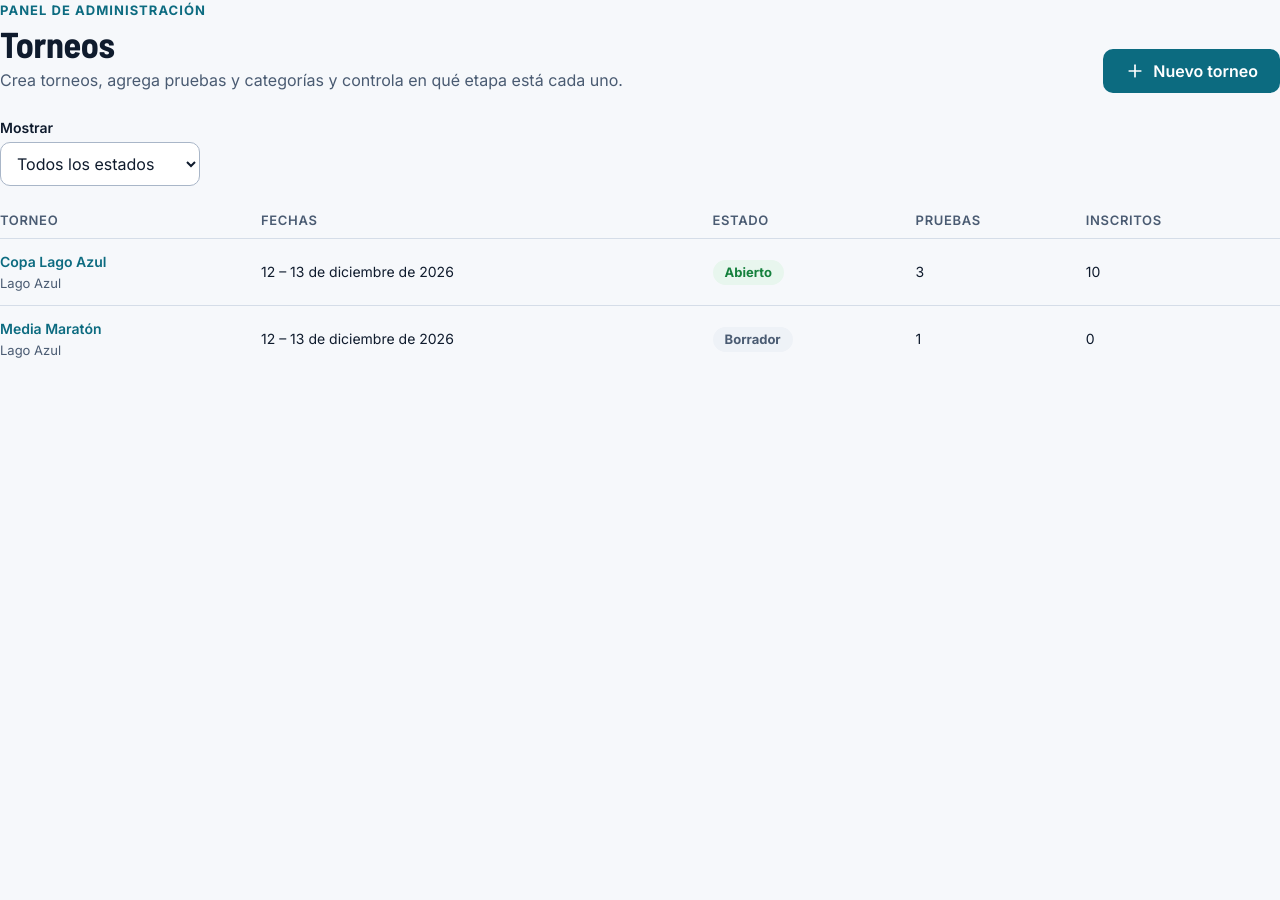
Test: TorneosPage › valida en el formulario que la fecha de fin no sea anterior
Expected: the table named "Torneos" is shown, [0,210,1279,372]
Click the button "Nuevo torneo" at (1192, 70), box [1103,48,1279,92]
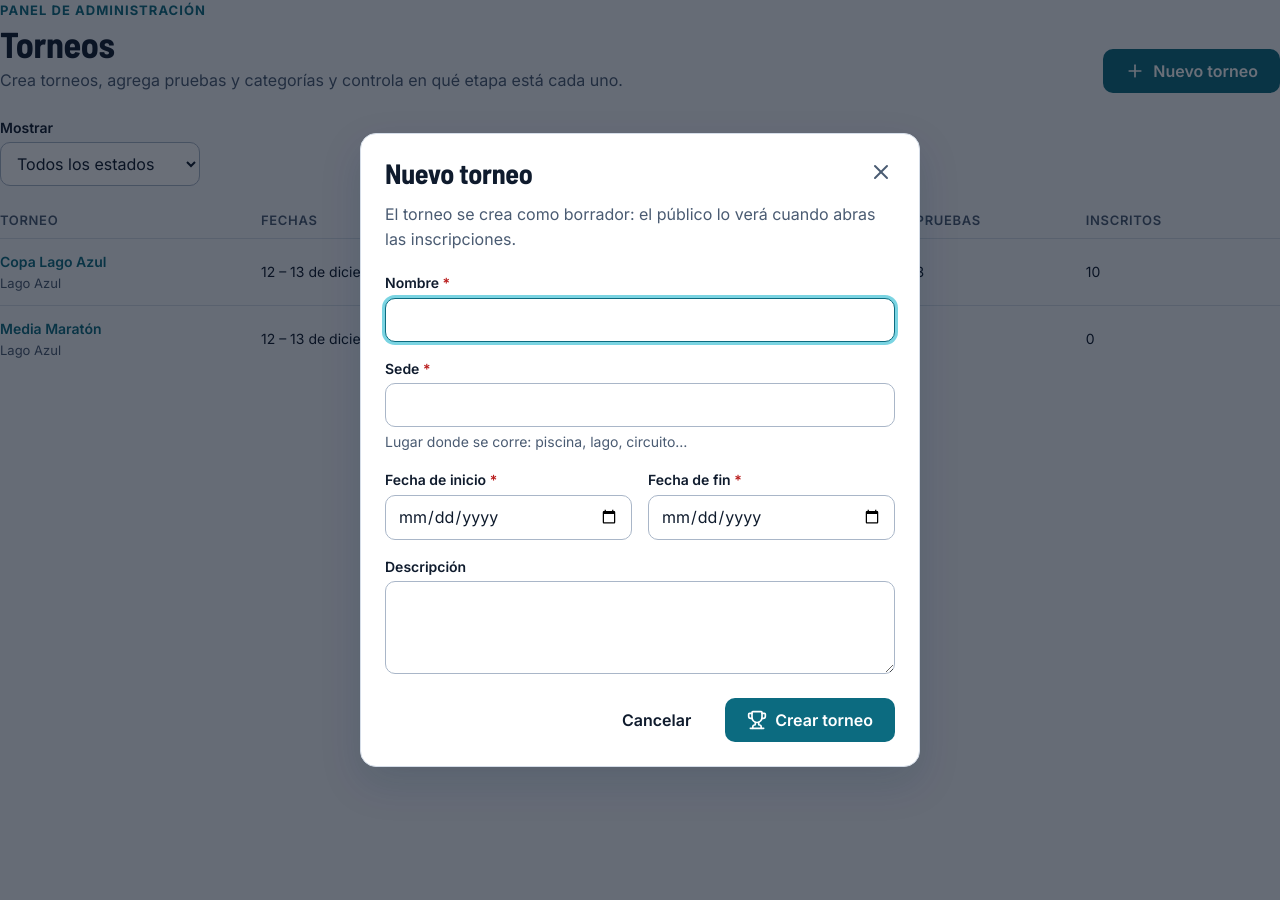
Type "Copa" into the field labelled "Nombre *" at (640, 320), box [385,298,895,342]
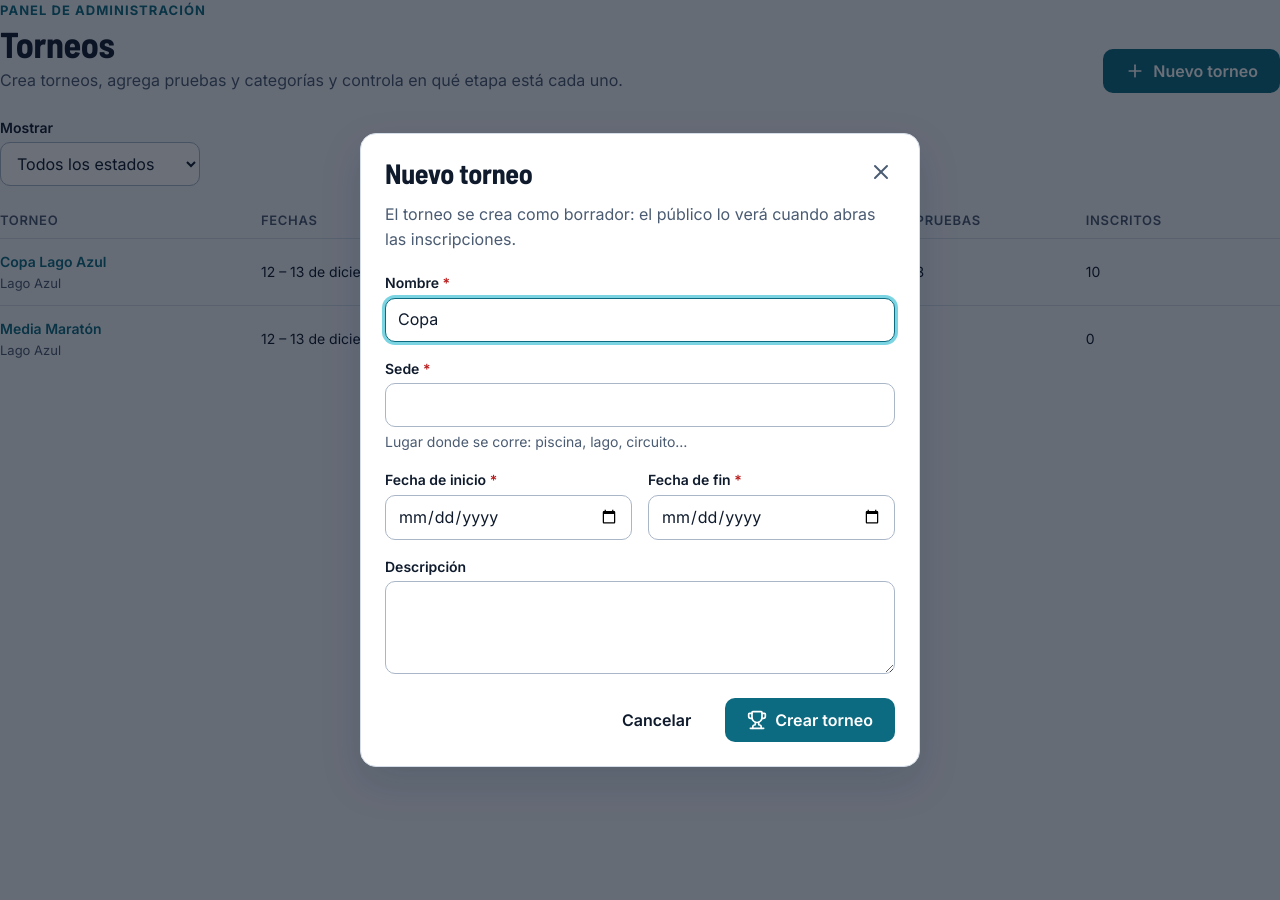
Type "Club" into the field labelled "Sede *" at (640, 405), box [385,383,895,427]
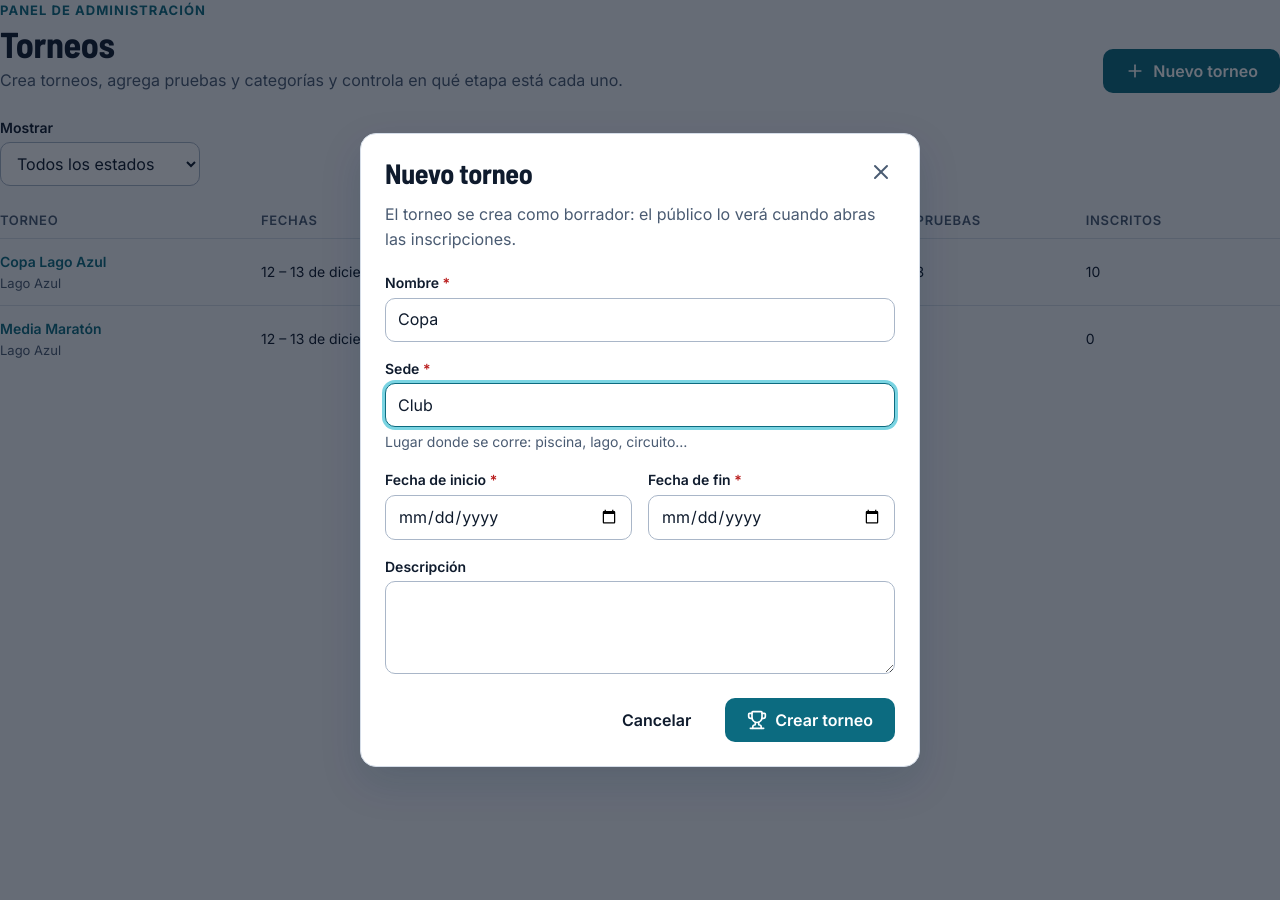
Type "2027-01-15" into the date field labelled "Fecha de inicio *" at (508, 517), box [385,495,632,540]
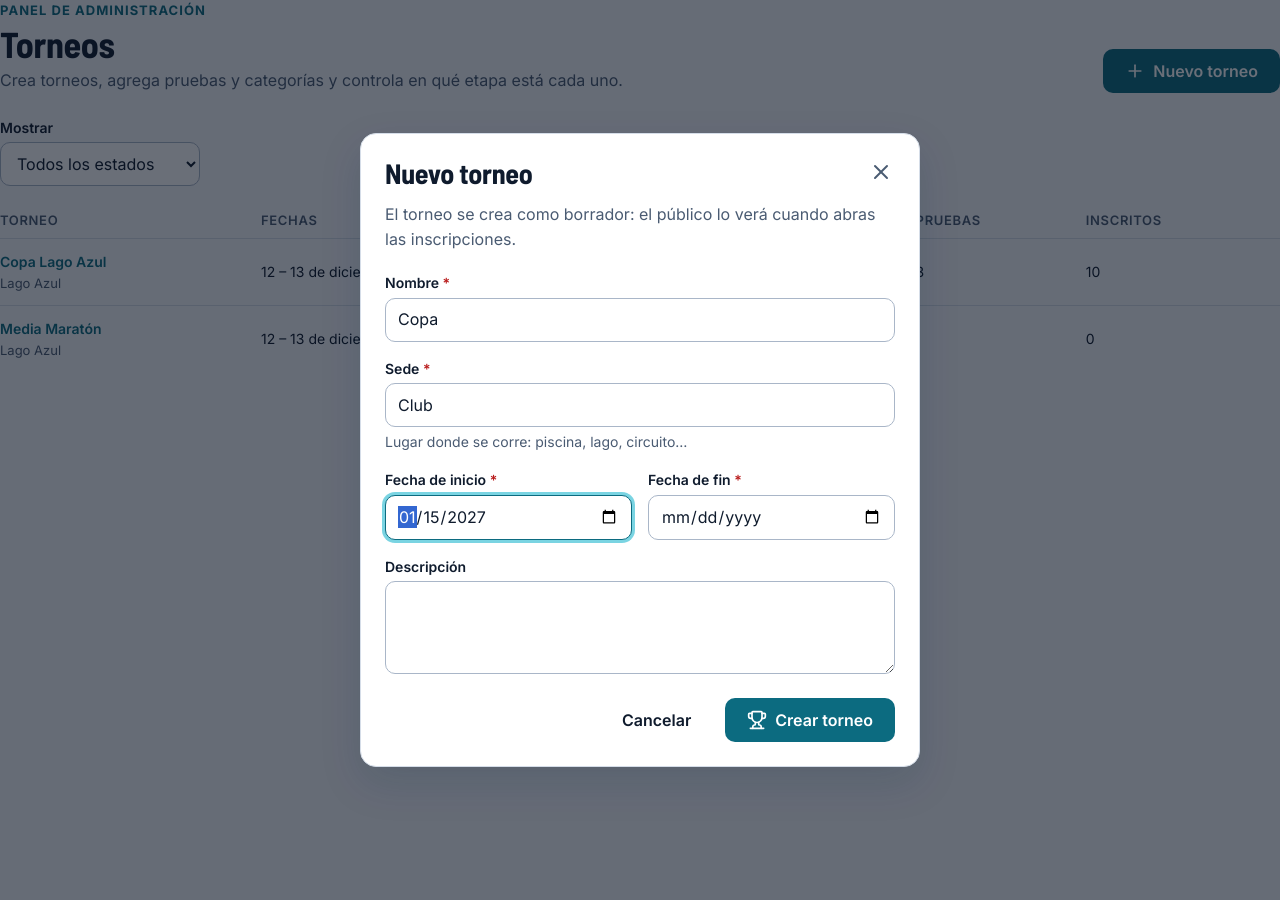
Type "2027-01-10" into the date field labelled "Fecha de fin *" at (772, 517), box [648,495,895,540]
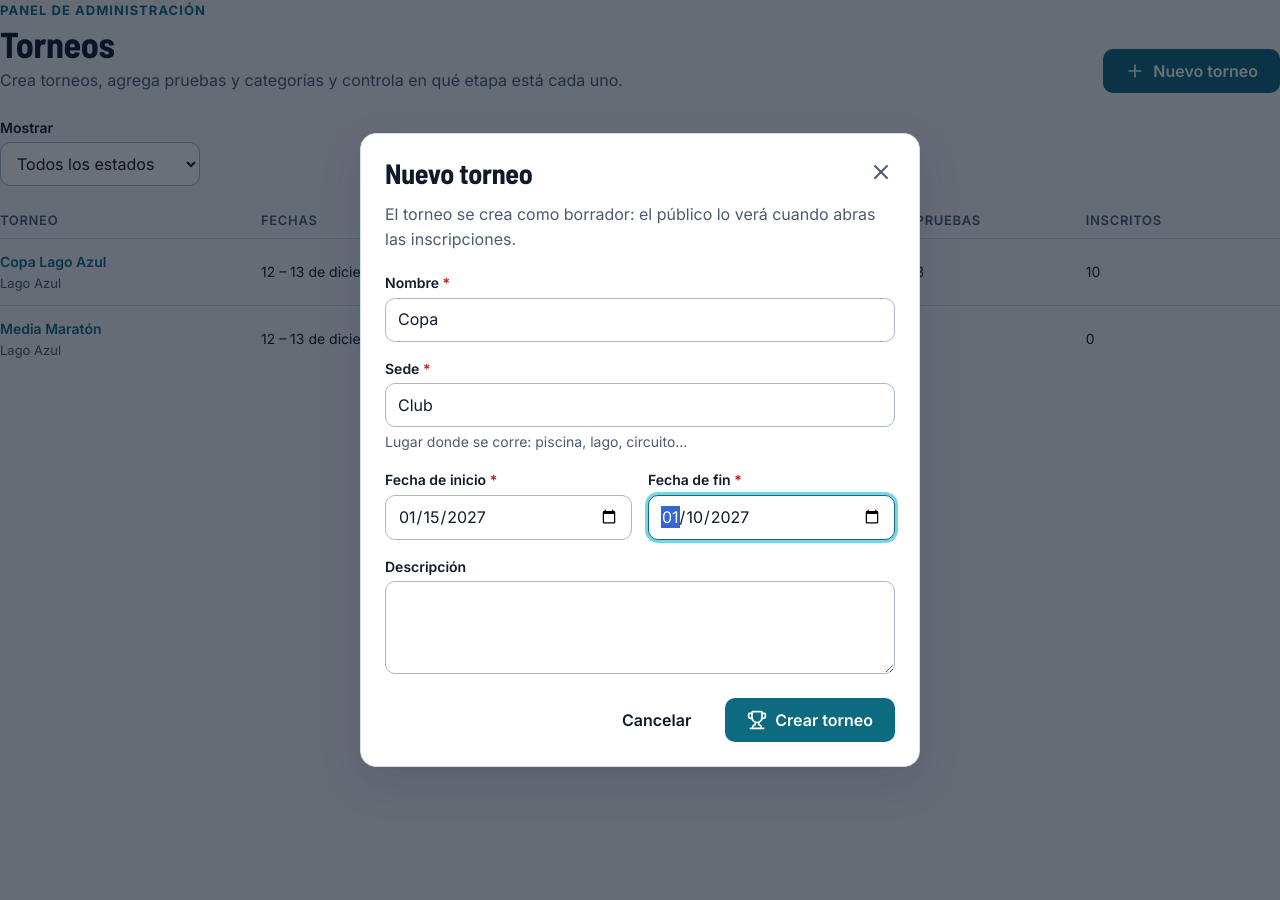
Click the button "Crear torneo" at (810, 720), box [725,698,895,742]
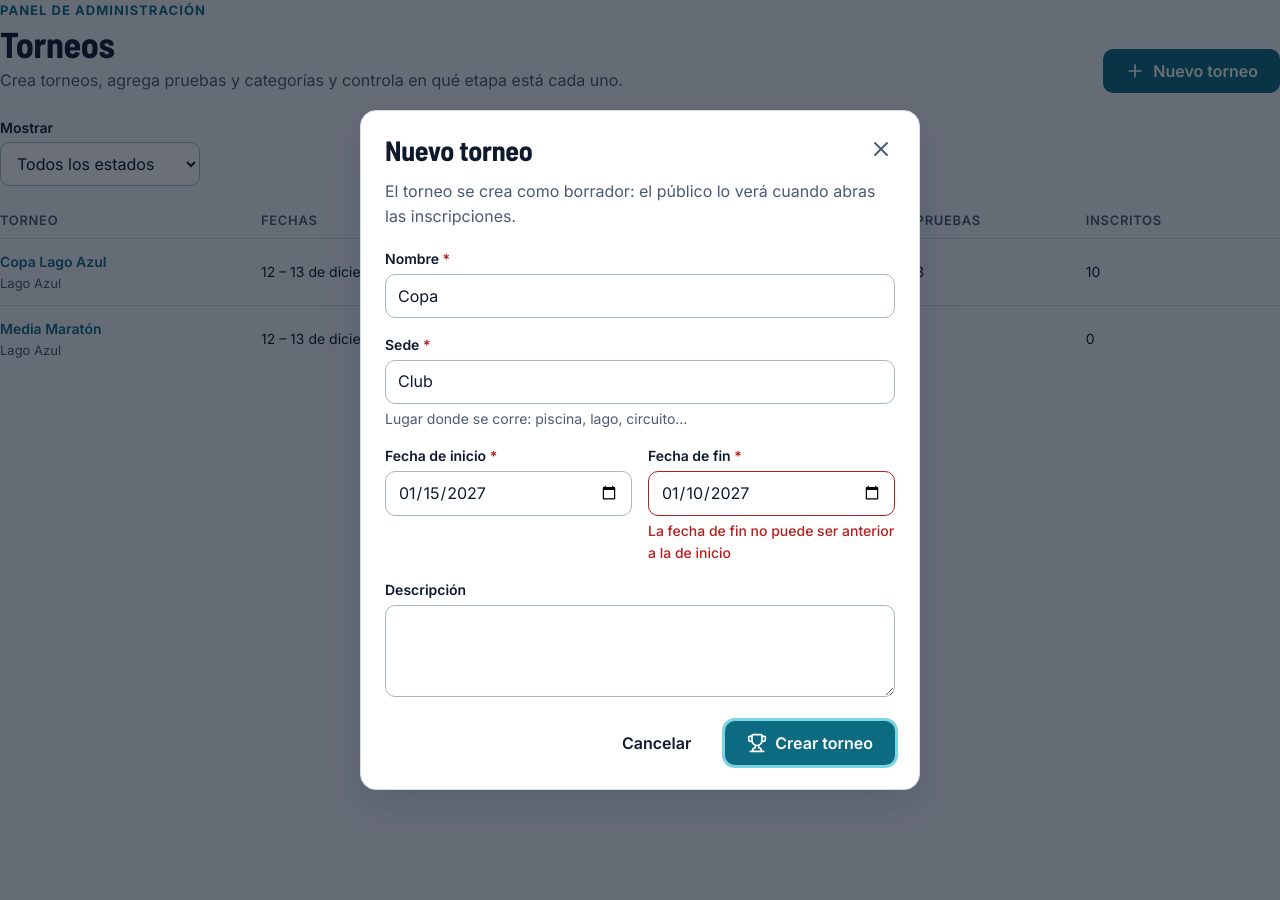
Expected: the text "La fecha de fin no puede ser anterior a la de inicio" is shown, [648,520,895,563]
